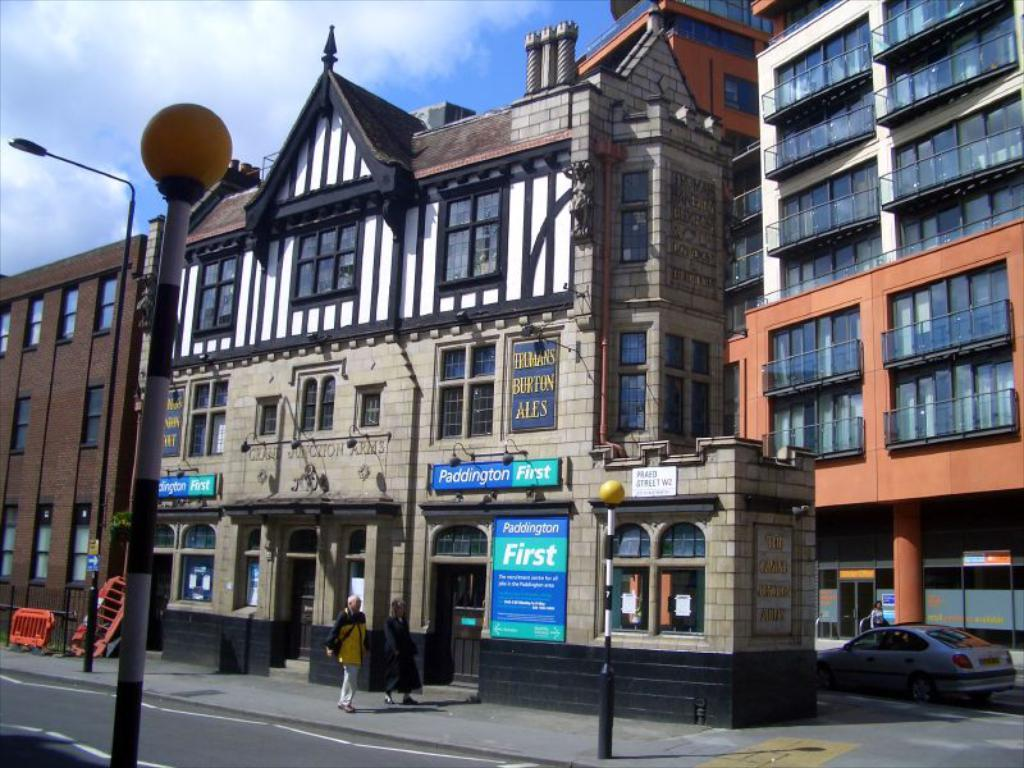Car: (823, 628, 1016, 702)
